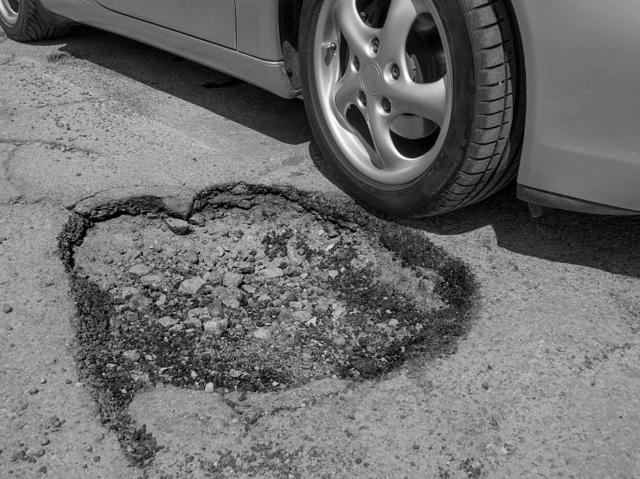Pothole: (58, 179, 476, 473)
